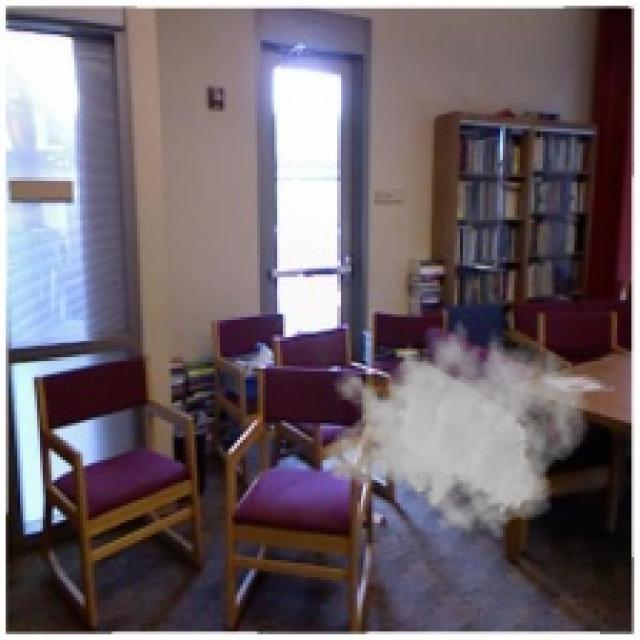smoke: (323, 309, 588, 540)
